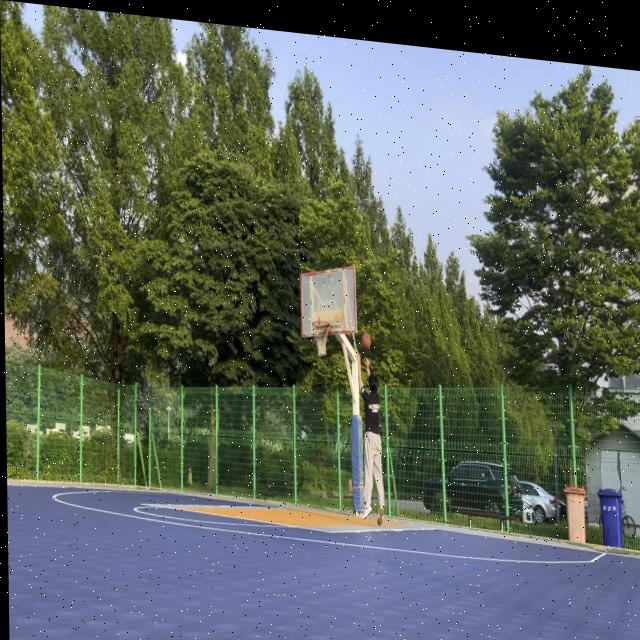basketball: (361, 333, 371, 351)
hoop: (312, 319, 330, 358)
